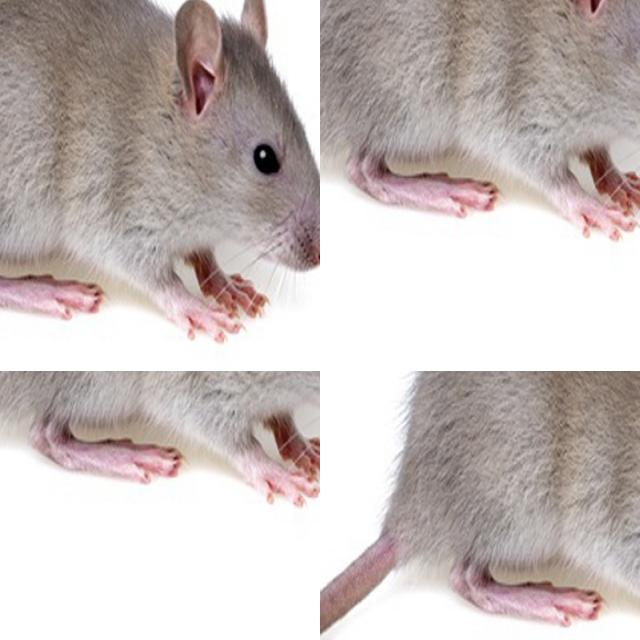rat: (320, 371, 640, 640), (63, 498, 236, 640), (215, 480, 320, 640), (0, 504, 82, 640)
